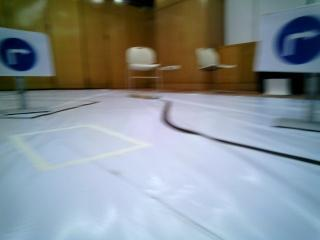right: (260, 13, 320, 74), (0, 28, 56, 80)
